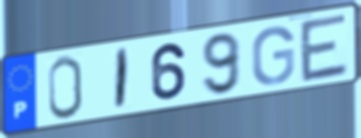0: (46, 53, 85, 122)
6: (149, 41, 190, 103)
9: (199, 30, 242, 97)
E: (298, 11, 351, 85)
G: (250, 24, 297, 87)
I: (112, 45, 132, 113)
